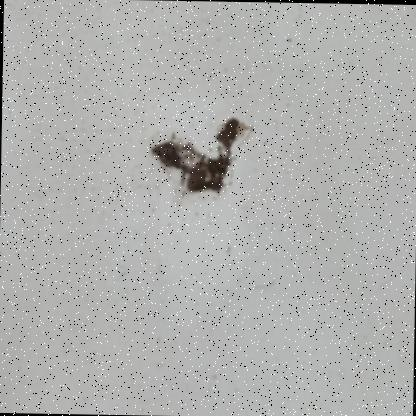Crack: (134, 69, 275, 222)
